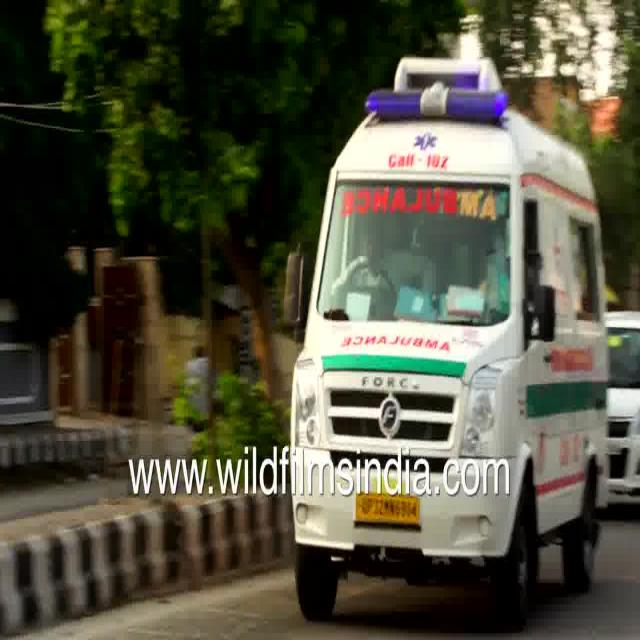ambulance: (293, 45, 617, 450), (289, 507, 621, 612)
